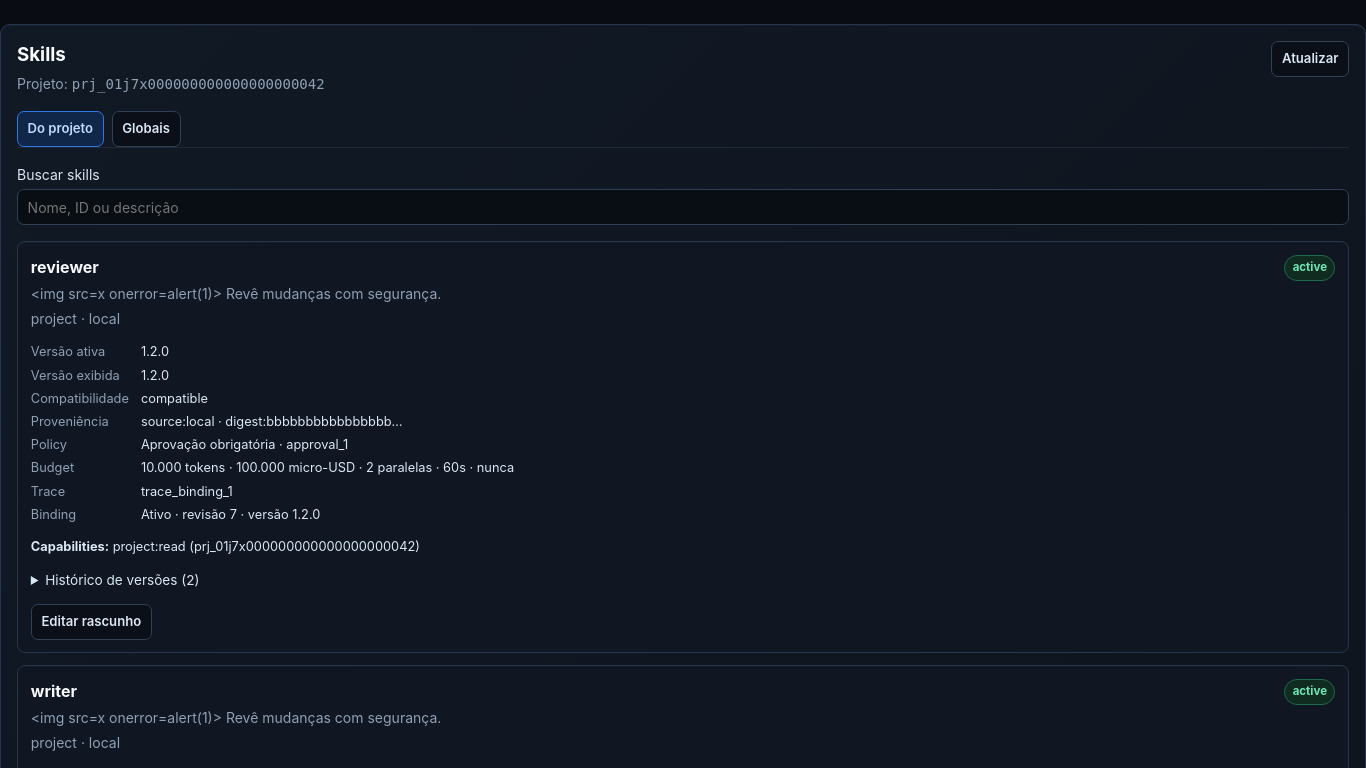
Skills UI contract PR-144 › filters the bounded result set by skill name without changing the API scope
Expected: the heading "reviewer" is shown, [31,257,99,277]
Type "writer" into the search field labelled "Buscar skills" at (683, 207), box [17,189,1349,225]
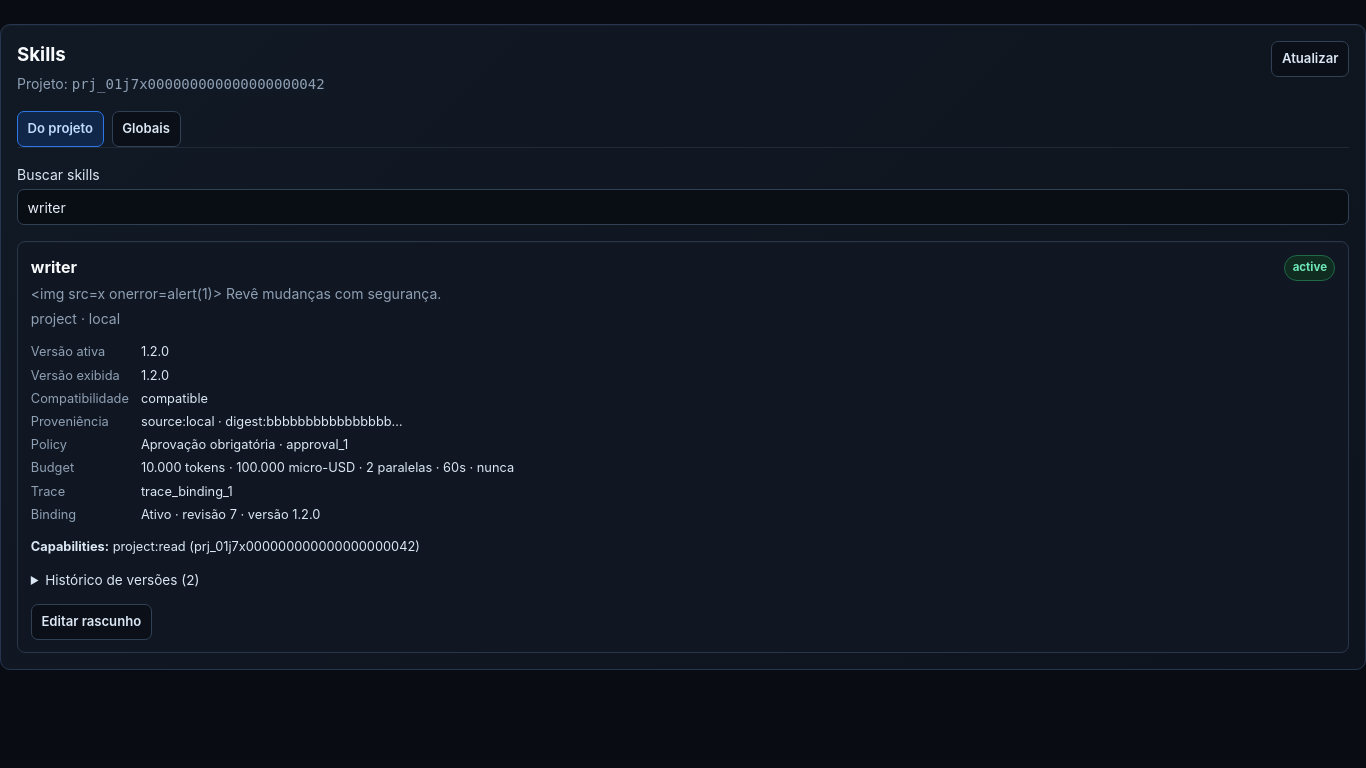
Expected: the heading "writer" is shown, [31,257,77,277]
Expected: the heading "reviewer" is gone
